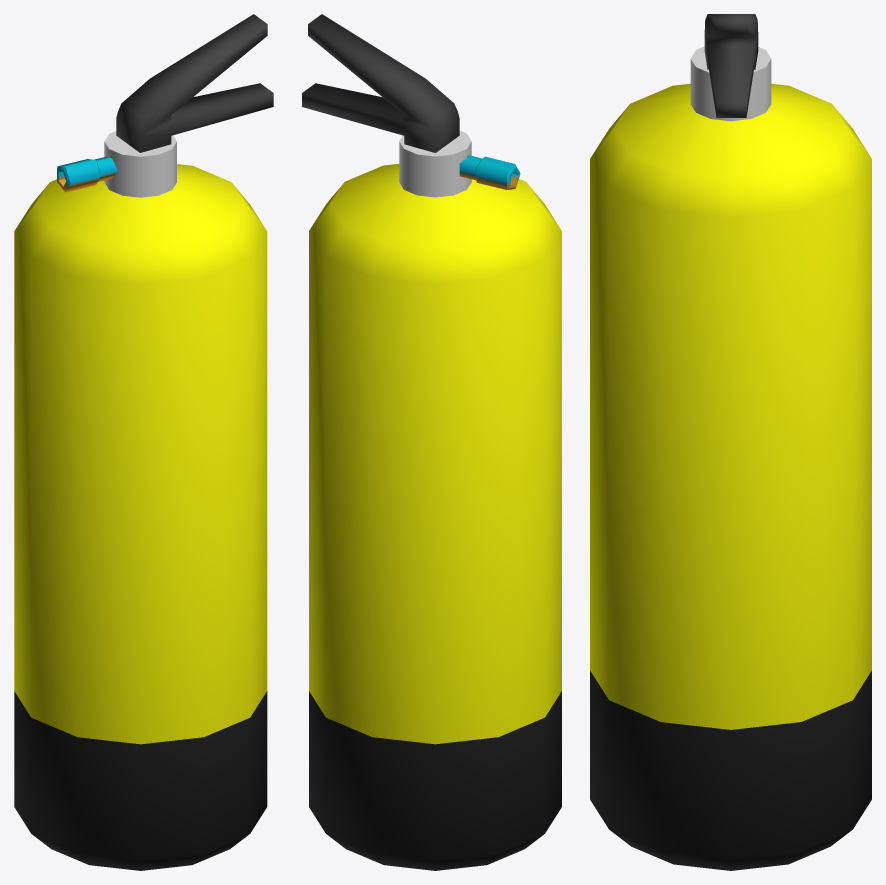
The model's file is Bottle03.fbx.
The picture shows the model from 3 angles, left to right: view 1: azimuth 30°, elevation 25°; view 2: azimuth 150°, elevation 25°; view 3: azimuth 270°, elevation 25°; orthographic projection. The views are drawn at different scales.
Parts seen in each view (by area): view 1: Bottle03; view 2: Bottle03; view 3: Bottle03.
Boxes of the visible parts, x1,y1,x2,y2 form: Bottle03: (14, 14, 273, 870); Bottle03: (302, 14, 561, 870); Bottle03: (590, 14, 871, 870).
Bounding box in the file's own units: 7.91 × 24.95 × 7.34.
